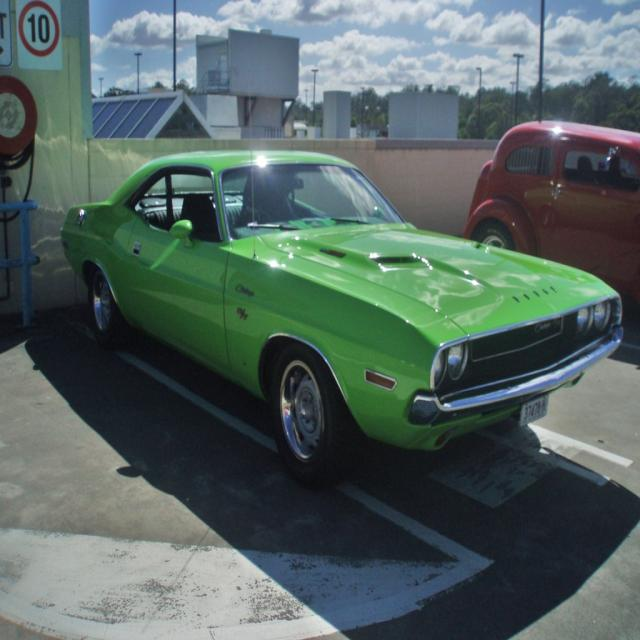car: (54, 88, 624, 484)
